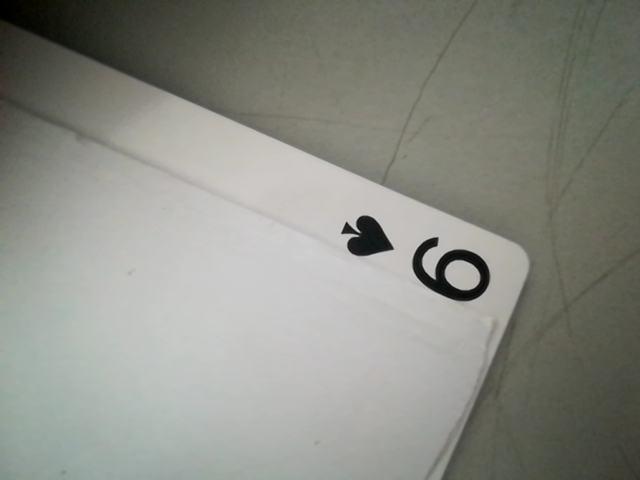ht 9: (322, 209, 510, 309)
